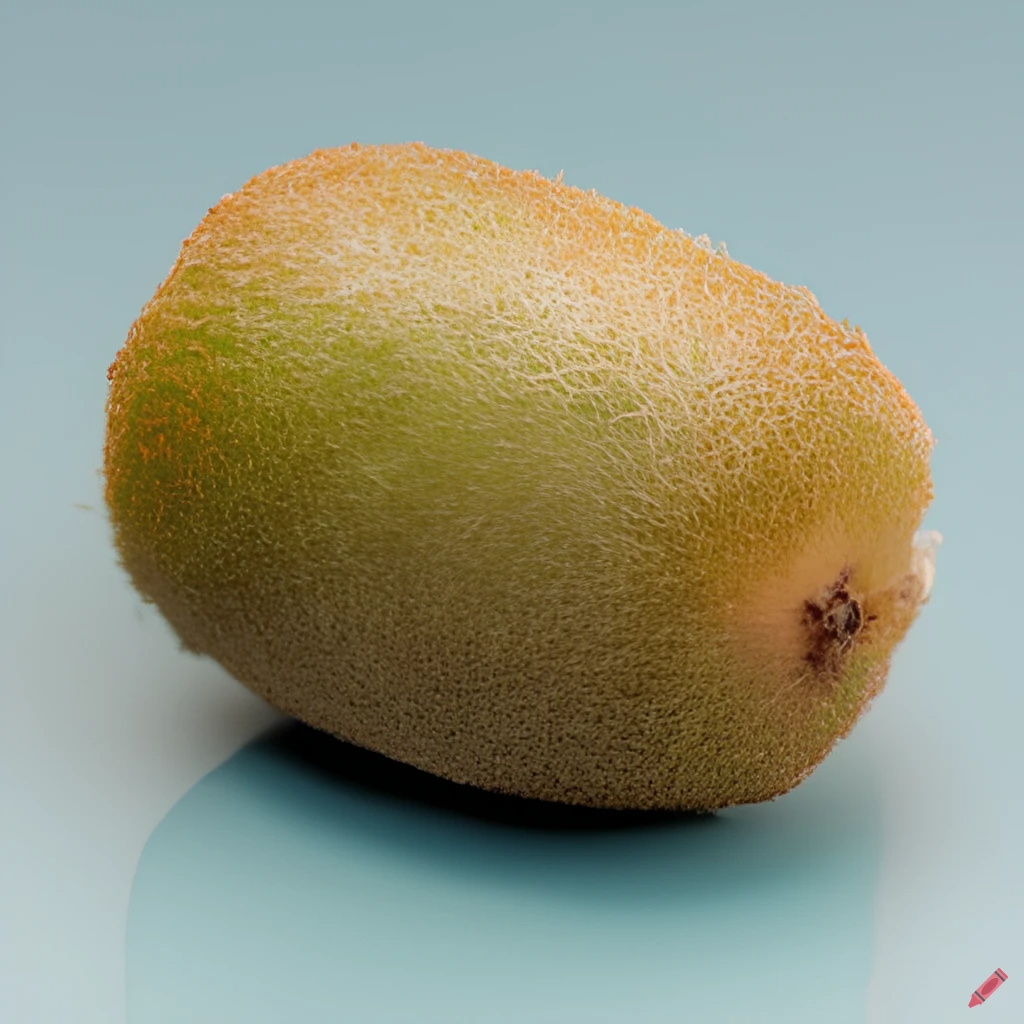Kiwi: (102, 125, 916, 834)
